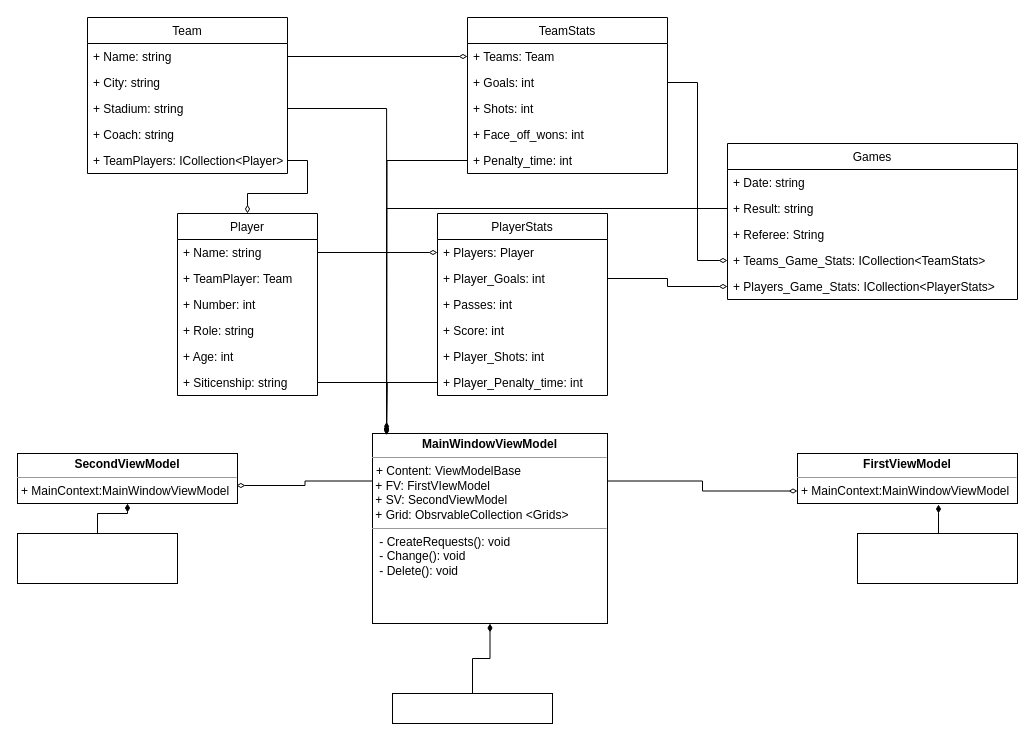
This 1035x741 diagram has some shape labels left out. Here are the shapes that lost their labels. From the top down, the centre of each, then its label:
point (97, 558): SecondView - InitializeComponent: void
point (937, 558): FirstView - InitializeComponent: void
point (472, 708): MainWindowView
